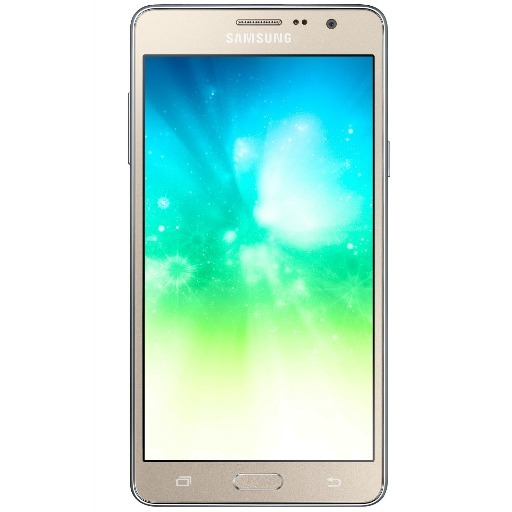mobile: (125, 1, 398, 512)
